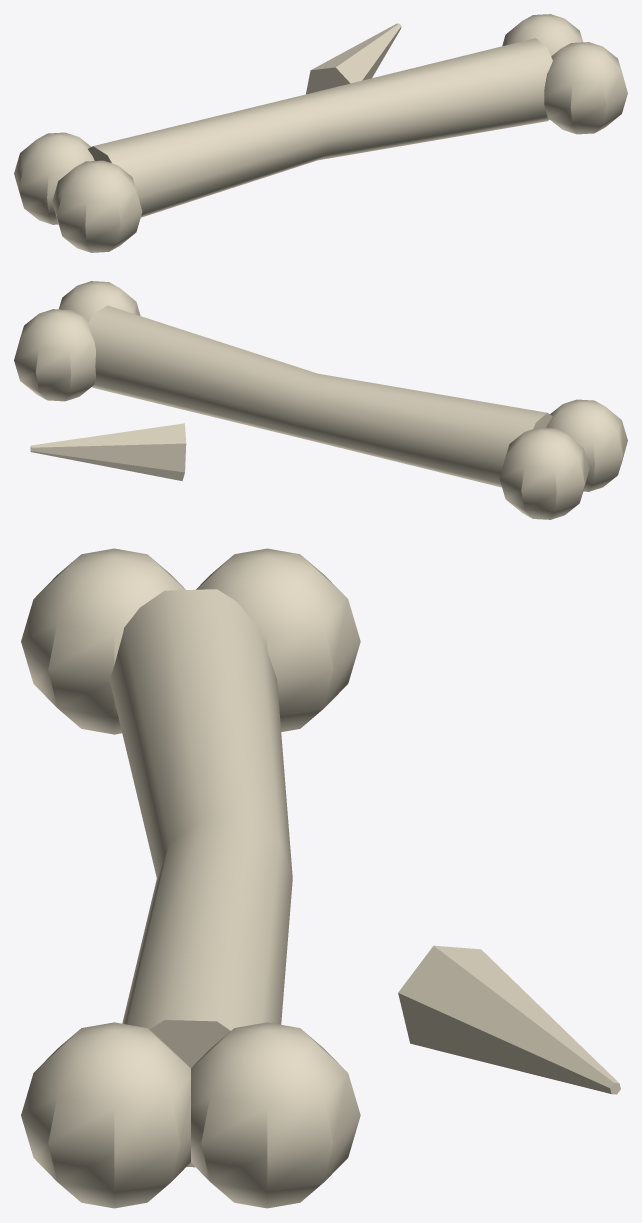
The model's file is bone_fragment.glb.
The picture shows the model from 3 angles, top to bottom: view 1: azimuth 30°, elevation 25°; view 2: azimuth 150°, elevation 25°; view 3: azimuth 270°, elevation 25°; orthographic projection. The views are drawn at different scales.
Visible parts, largest first — view 1: bone_fragment; view 2: bone_fragment; view 3: bone_fragment.
Part boxes in pixels (<box>): bone_fragment: <box>14,14,627,252</box>; bone_fragment: <box>14,281,627,519</box>; bone_fragment: <box>21,548,620,1208</box>.
Size of the model in its own units: 0.154 by 0.0238 by 0.0706.
